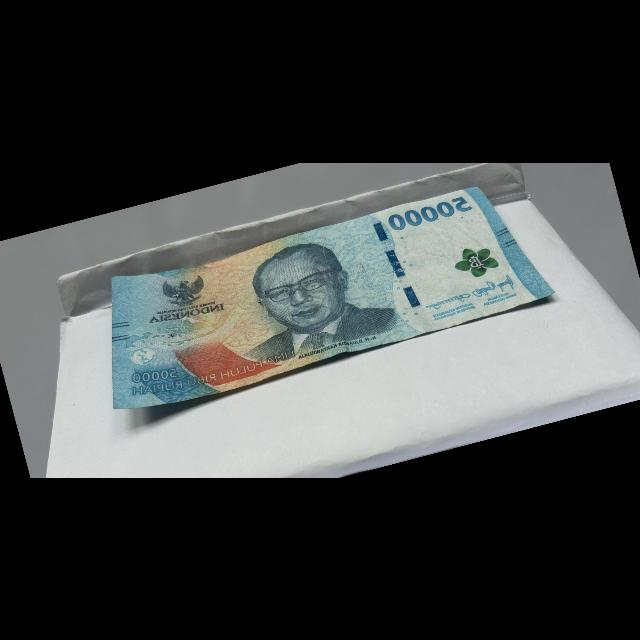Palsu-50k: (69, 151, 559, 430)
Tinta-Palsu-50k: (446, 237, 502, 285)
